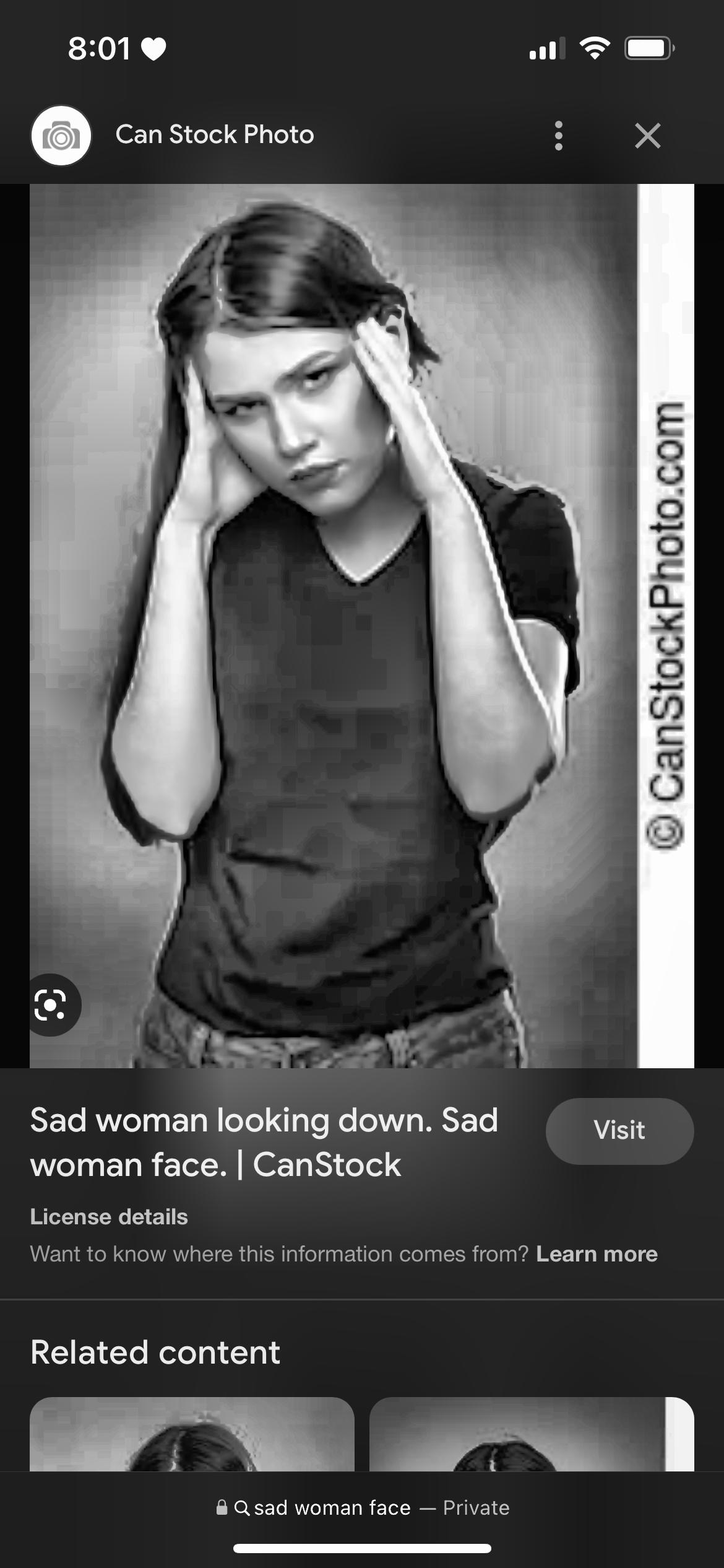sad: (184, 266, 421, 518)
